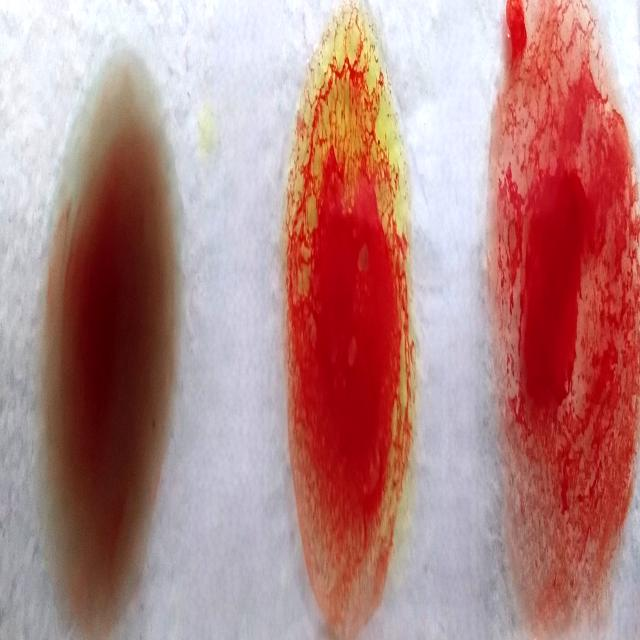B: (286, 8, 413, 640)
D: (490, 20, 640, 640)
